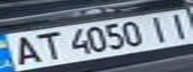0: (118, 18, 148, 47), (84, 24, 109, 54)
4: (66, 25, 90, 56)
5: (103, 20, 127, 51)
A: (3, 34, 45, 68)
I: (142, 14, 175, 43), (160, 10, 193, 39)
T: (30, 29, 66, 61)
